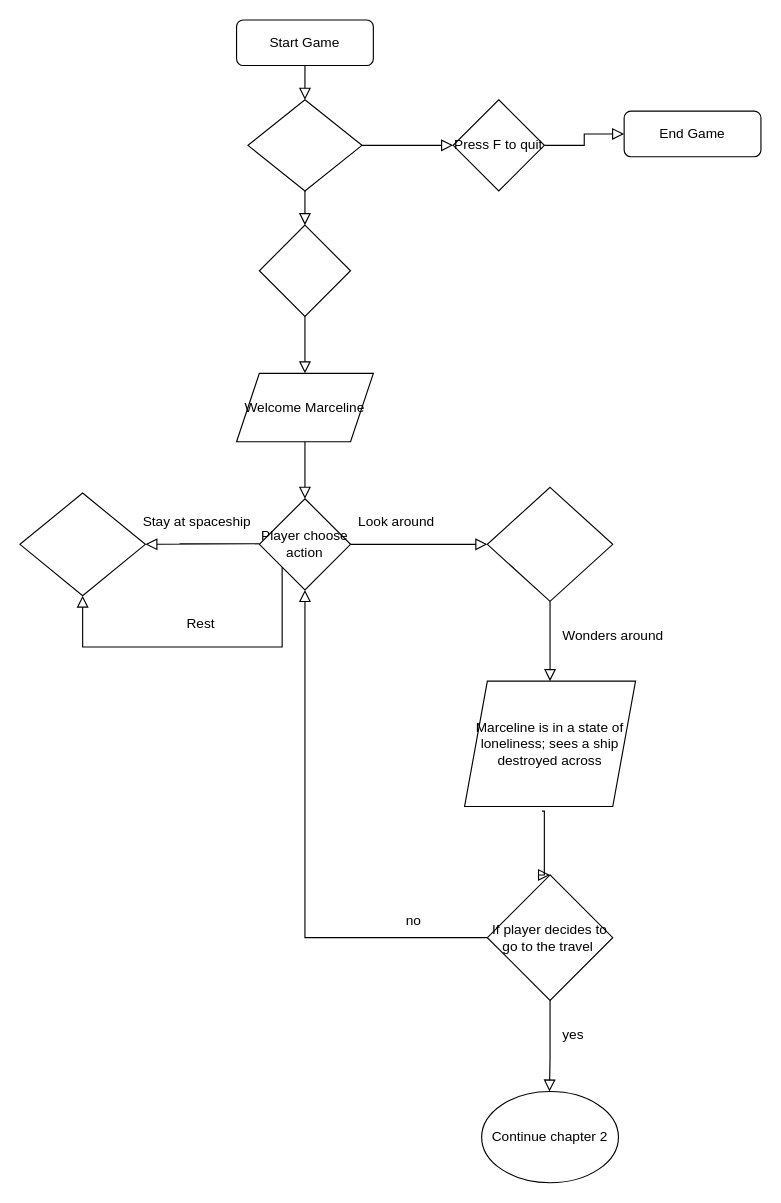
This 781x1203 diagram has some shape labels left out. The centre of each missing label's shape, as x and y in pixels:
"Press start to begin" belongs at point 304,145.
"Start Chapter 1 Module" belongs at point 304,270.
"Start stay module" belongs at point 82,544.
"Start travel module" belongs at point 549,543.
